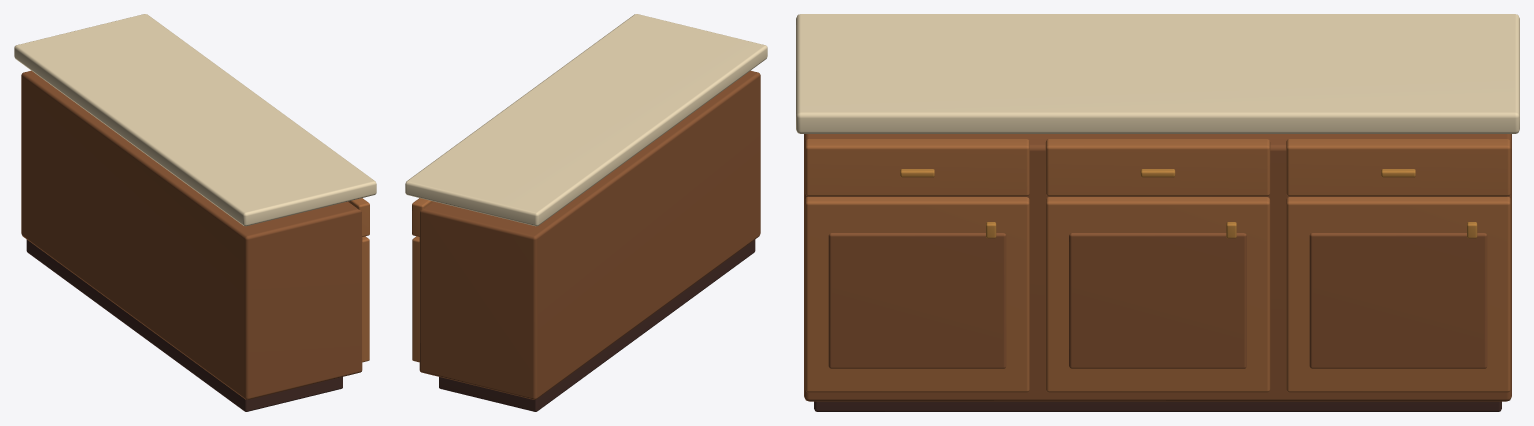
Rendered from kitchen-prep.glb.
The picture shows the model from 3 angles, left to right: view 1: azimuth 30°, elevation 25°; view 2: azimuth 150°, elevation 25°; view 3: azimuth 270°, elevation 25°; orthographic projection. The views are drawn at different scales.
Parts seen in each view (by area): view 1: kitchen_prep_placement_Mesh; view 2: kitchen_prep_placement_Mesh; view 3: kitchen_prep_placement_Mesh.
Part boxes in pixels (<box>): kitchen_prep_placement_Mesh: <box>14,14,376,411</box>; kitchen_prep_placement_Mesh: <box>405,14,767,411</box>; kitchen_prep_placement_Mesh: <box>796,14,1519,411</box>.
Size of the model in its own units: 0.6 by 0.88 by 1.8.
